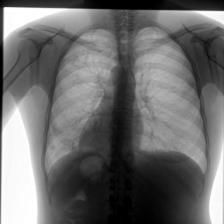tuberculosis: (36, 19, 210, 222)
